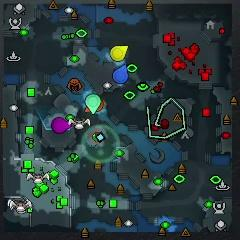p1: (113, 64, 129, 84)
p2: (85, 94, 101, 114)
p3: (52, 118, 71, 133)
p4: (111, 45, 129, 61)
p5: (84, 100, 104, 112)
